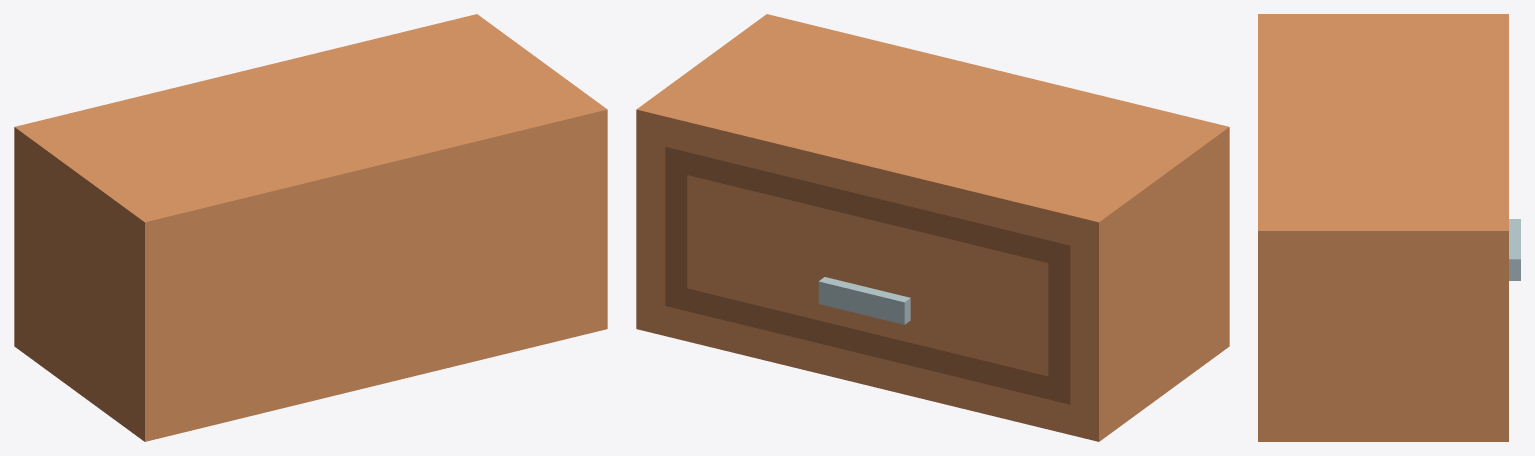
The model's file is Furniture_Kitchen_Cabinet_Upperl.glb.
The picture shows the model from 3 angles, left to right: view 1: azimuth 30°, elevation 25°; view 2: azimuth 150°, elevation 25°; view 3: azimuth 270°, elevation 25°; orthographic projection. The views are drawn at different scales.
Visible parts, largest first — view 1: kitchenCabinetUpperLow; view 2: kitchenCabinetUpperLow, door; view 3: kitchenCabinetUpperLow, door.
Boxes of the visible parts, x1,y1,x2,y2 form: kitchenCabinetUpperLow: (14,14,607,441); kitchenCabinetUpperLow: (636,14,1229,441); door: (665,147,1070,404); kitchenCabinetUpperLow: (1258,14,1508,441); door: (1509,219,1520,280).
Bounding box in the file's own units: 0.43 × 0.195 × 0.22.
